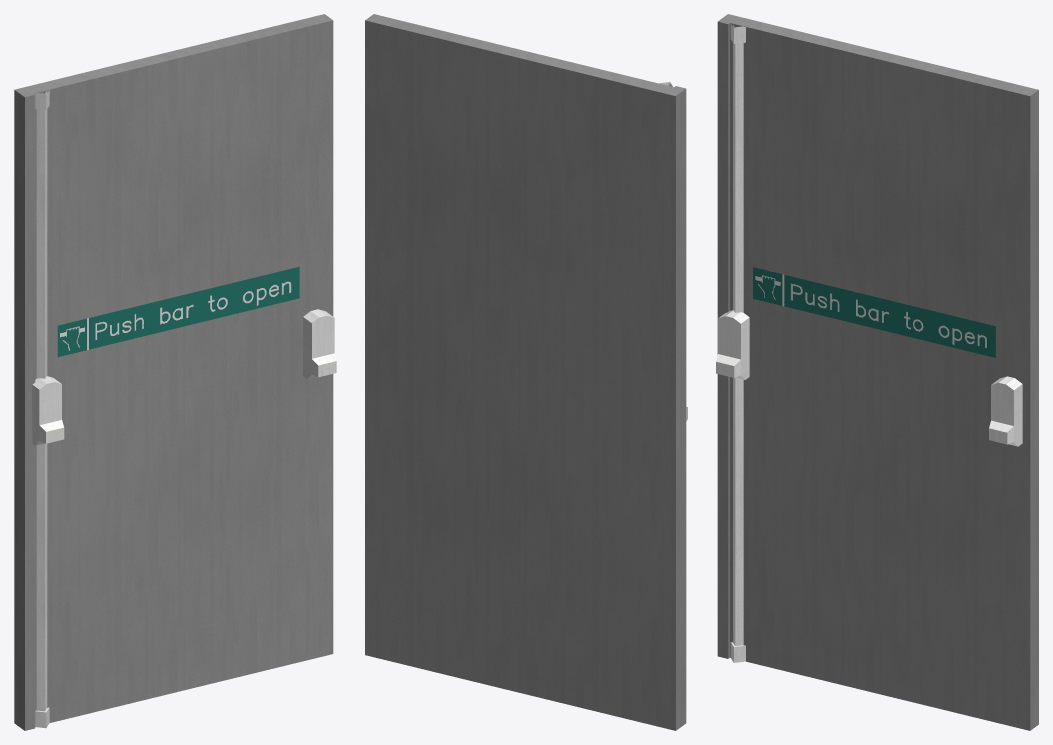
Rendered from warehouse_door_R.glb.
3 views of the same model, side by side, from view 1: azimuth 30°, elevation 25°; view 2: azimuth 150°, elevation 25°; view 3: azimuth 330°, elevation 25° (orthographic).
Visible parts, largest first — view 1: Cube.251, Cube.249; view 2: Cube.251; view 3: Cube.251, Cube.249.
Boxes of the visible parts, x1,y1,x2,y2 form: Cube.251: (14, 14, 333, 730); Cube.249: (32, 90, 336, 728); Cube.251: (365, 14, 686, 730); Cube.251: (717, 14, 1038, 730); Cube.249: (716, 23, 1022, 662).
Bounding box in the file's own units: 4.1 × 8 × 0.5.
3 materials, 3 textured.
